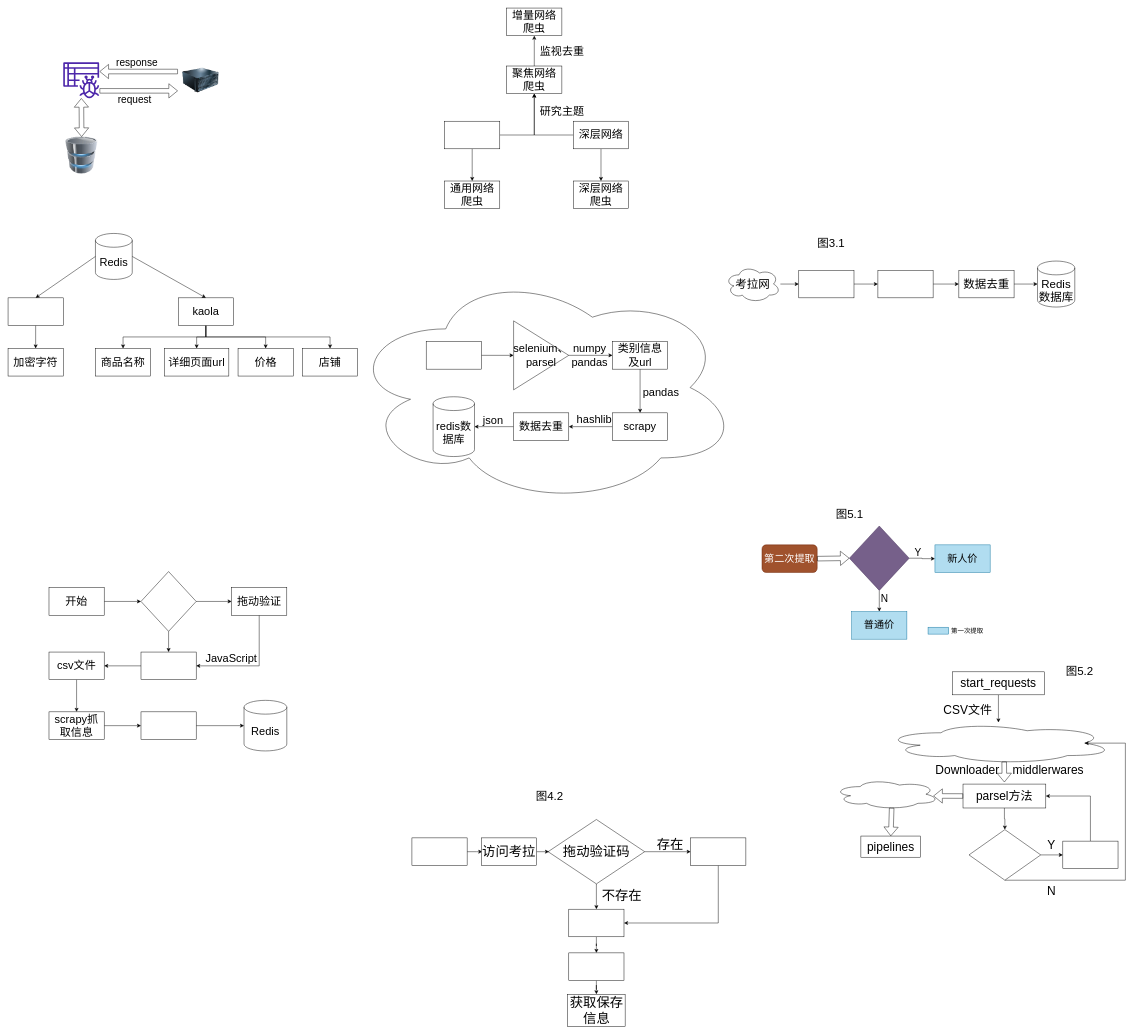
This 1137x1035 diagram has some shape labels left out. Each missing label, with the centre of its shape:
md5: the point at 35,311
MD5摘要数据去重: the point at 168,725
selenium: the point at 168,601
selenium初始化: the point at 439,851
下一页: the point at 1090,855
初始URL队列[URL1, URL2 ..]: the point at 998,743
动态网页信息: the point at 168,666
动态网页爬虫: the point at 826,284
包含考拉价: the point at 879,558
有效响应: the point at 1005,854
检验: the point at 596,966
浅层网络: the point at 472,135
目标信息 item: the point at 886,794
考拉网页: the point at 453,355
运行JS脚本: the point at 718,851
静态网页爬虫: the point at 905,284
鼠标悬停: the point at 596,923
